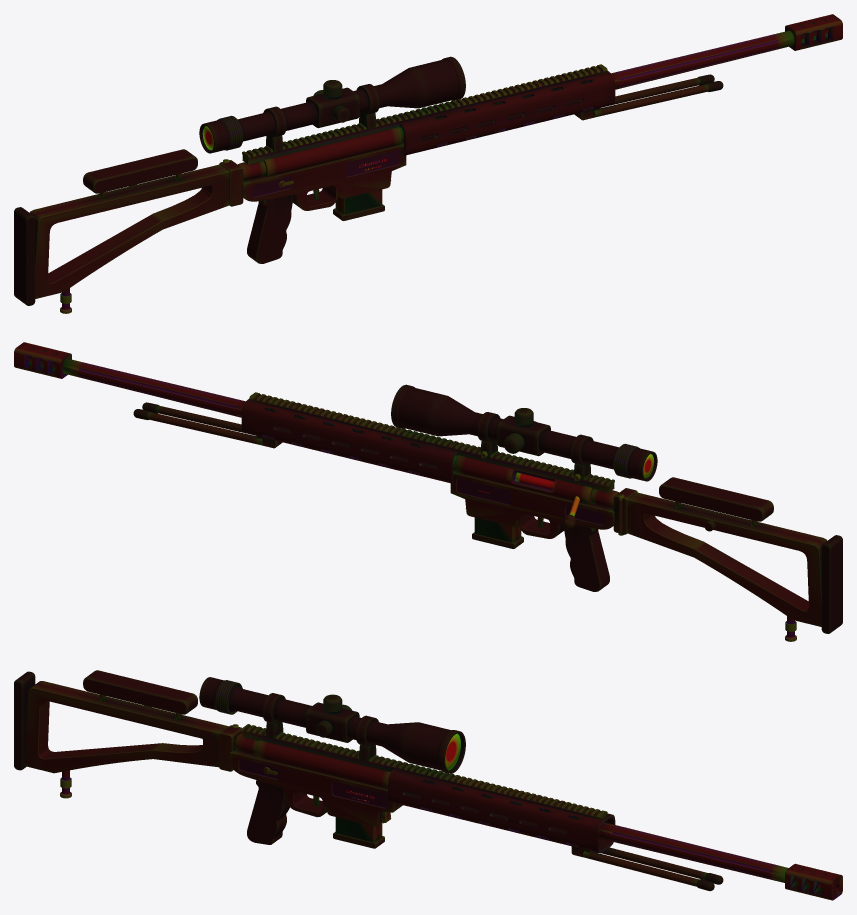
Rendered from longreach.glb.
3 views of the same model, one above another, from view 1: azimuth 30°, elevation 25°; view 2: azimuth 150°, elevation 25°; view 3: azimuth 330°, elevation 25° (orthographic).
Visible parts, largest first — view 1: base; view 2: base; view 3: base.
Part boxes in pixels (x1,y1,x2,y2): base: (14, 14, 842, 313); base: (14, 342, 842, 641); base: (14, 670, 842, 900).
Bounding box in the file's own units: 1.4 × 0.2675 × 0.0988.
